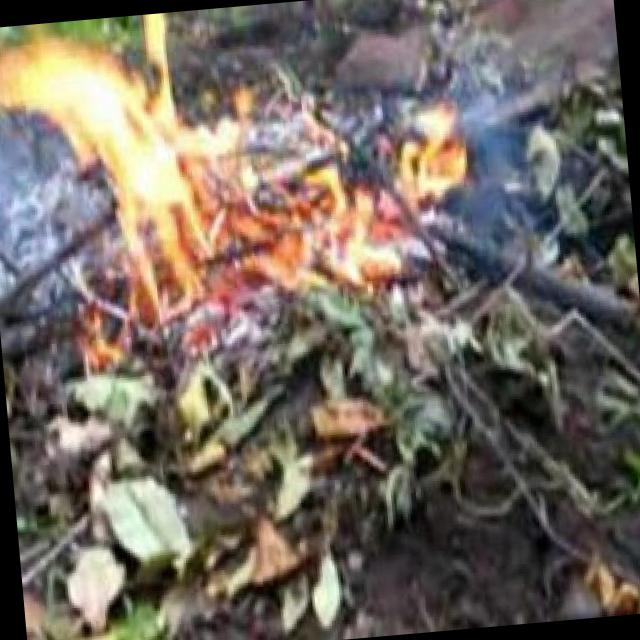Fire: (107, 104, 474, 343), (0, 36, 219, 238)
